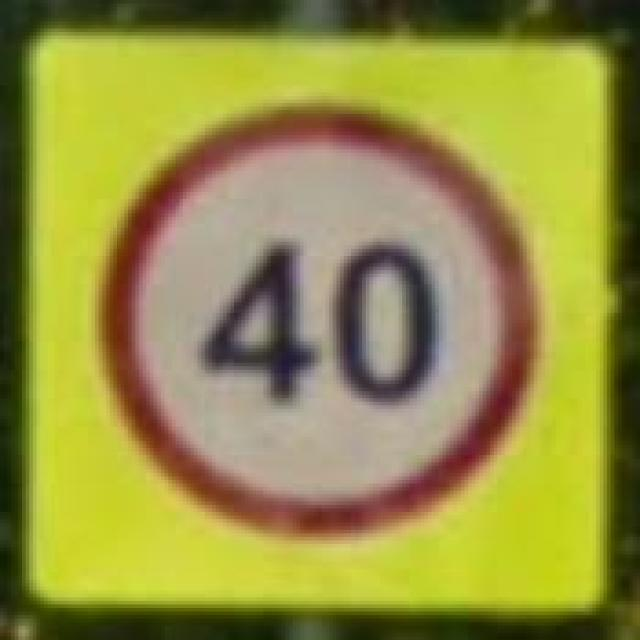traffic_sign: (91, 96, 542, 548)
